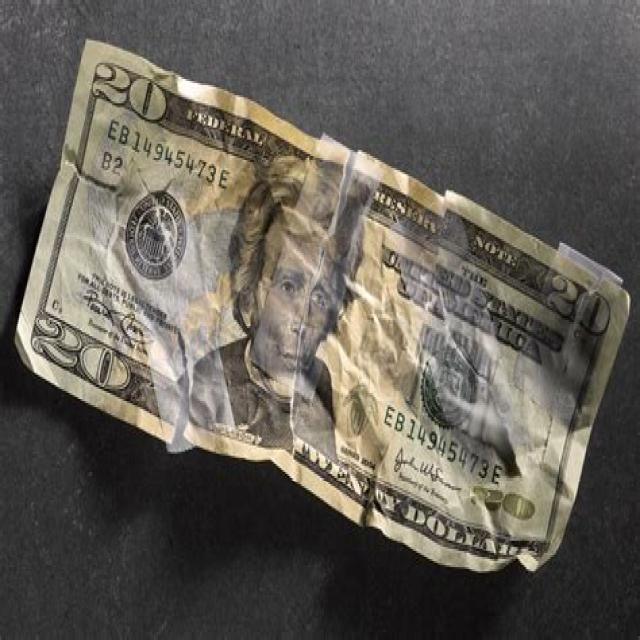banknote: (0, 38, 630, 574), (288, 428, 403, 519), (30, 304, 133, 397), (87, 55, 170, 126), (547, 260, 612, 338), (468, 480, 536, 524)
